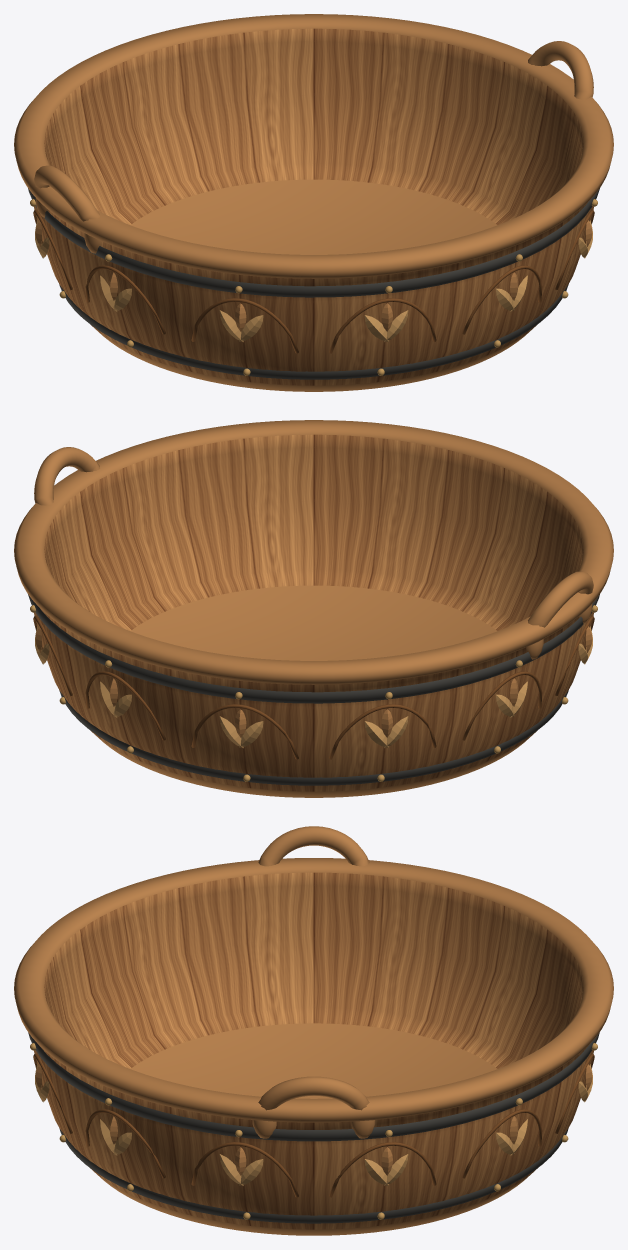
Rendered from bath-carved.glb.
3 views of the same model, one above another, from view 1: azimuth 30°, elevation 25°; view 2: azimuth 150°, elevation 25°; view 3: azimuth 270°, elevation 25° (orthographic).
Parts seen in each view (by area): view 1: Carved bath; view 2: Carved bath; view 3: Carved bath.
Part boxes in pixels (<box>): Carved bath: <box>14,14,613,391</box>; Carved bath: <box>14,420,613,797</box>; Carved bath: <box>14,826,613,1235</box>.
Bounding box in the file's own units: 1.13 × 0.3801 × 1.11.
Materials: 6 (1 with a texture image).
